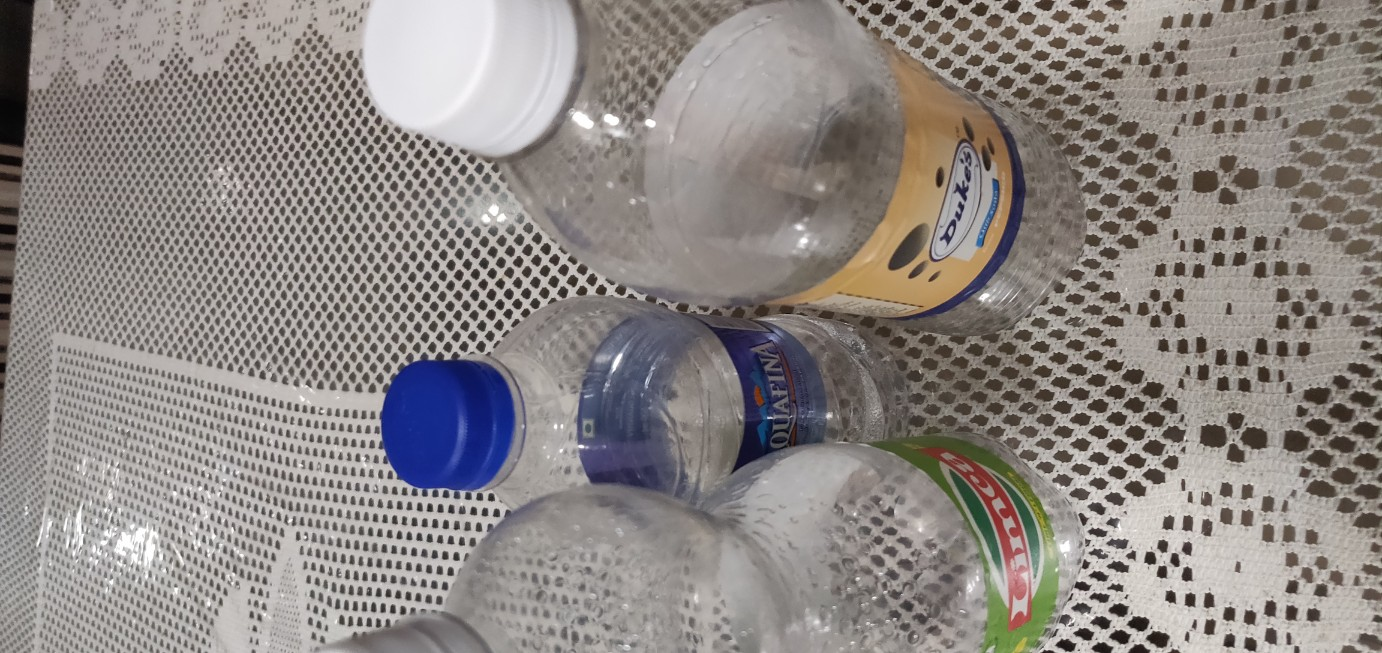Electronics: (338, 2, 1105, 372), (244, 412, 1108, 653), (352, 287, 1008, 547)
